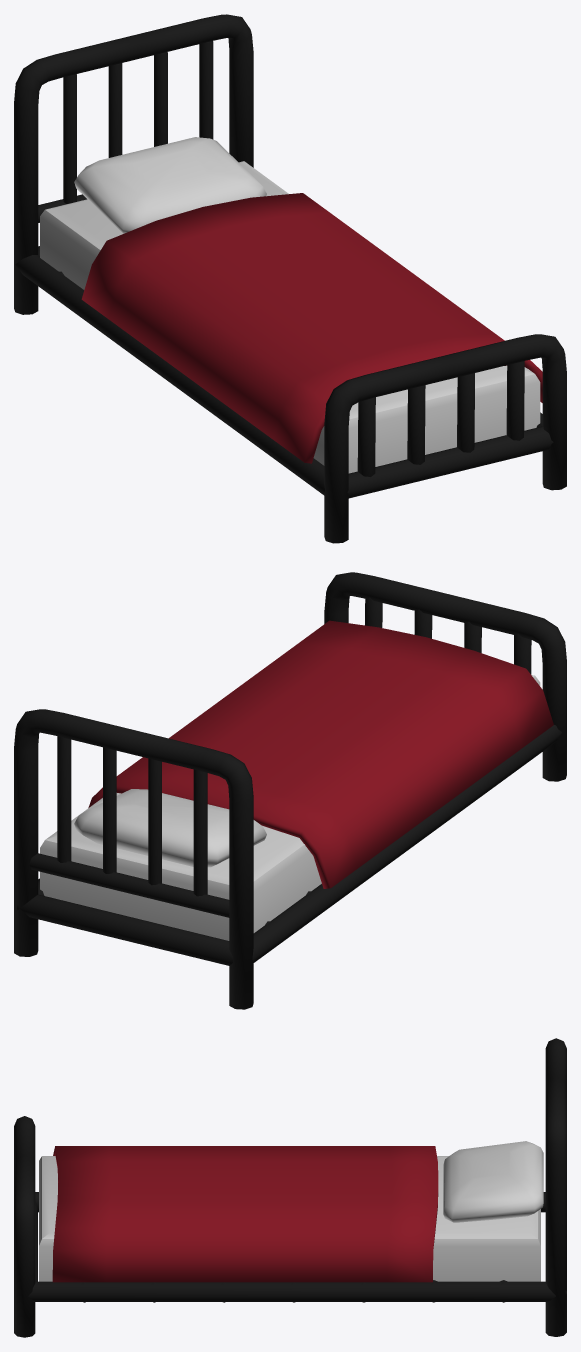
The model's file is bed2.fbx.
3 renders of one model, top to bottom at view 1: azimuth 30°, elevation 25°; view 2: azimuth 150°, elevation 25°; view 3: azimuth 270°, elevation 25°, orthographic. The views are drawn at different scales.
Parts seen in each view (by area): view 1: Plane.001, Cylinder.012, Cube.037, Cylinder.018, Cube.042, Cylinder.015, Cylinder.017, Cylinder.011, Cylinder.014; view 2: Plane.001, Cylinder.012, Cube.037, Cylinder.018, Cylinder.017, Cylinder.015, Cube.042, Cylinder.013, Cylinder.019, Cylinder.011; view 3: Plane.001, Cylinder.015, Cube.037, Cube.042, Cylinder.012, Cylinder.018.
Boxes of the visible parts, x1,y1,x2,y2 form: Plane.001: (81, 193, 542, 463); Cylinder.012: (14, 14, 253, 314); Cube.037: (40, 161, 540, 473); Cylinder.018: (324, 334, 566, 543); Cube.042: (74, 137, 266, 233); Cylinder.015: (15, 255, 542, 495); Cylinder.017: (63, 41, 213, 204); Cylinder.011: (357, 361, 524, 476); Cylinder.014: (347, 426, 553, 498); Plane.001: (88, 620, 553, 888); Cylinder.012: (14, 709, 253, 1009); Cube.037: (40, 674, 540, 940); Cylinder.018: (324, 572, 566, 781); Cylinder.017: (57, 736, 207, 896); Cylinder.015: (38, 725, 561, 962); Cube.042: (74, 789, 266, 867); Cylinder.013: (17, 894, 232, 965); Cylinder.019: (29, 853, 229, 917); Cylinder.011: (365, 597, 531, 674); Plane.001: (52, 1146, 438, 1282); Cylinder.015: (28, 1192, 555, 1301); Cube.037: (39, 1156, 540, 1281); Cube.042: (443, 1141, 543, 1222); Cylinder.012: (545, 1038, 566, 1336); Cylinder.018: (14, 1116, 35, 1337).
Bounding box in the file's own units: 97.69 × 92.56 × 220.
